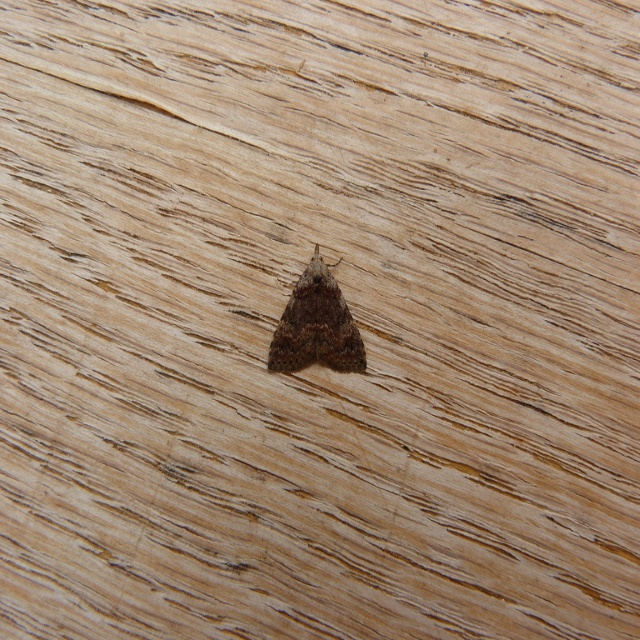Moths and butterflies: (266, 236, 369, 377)
